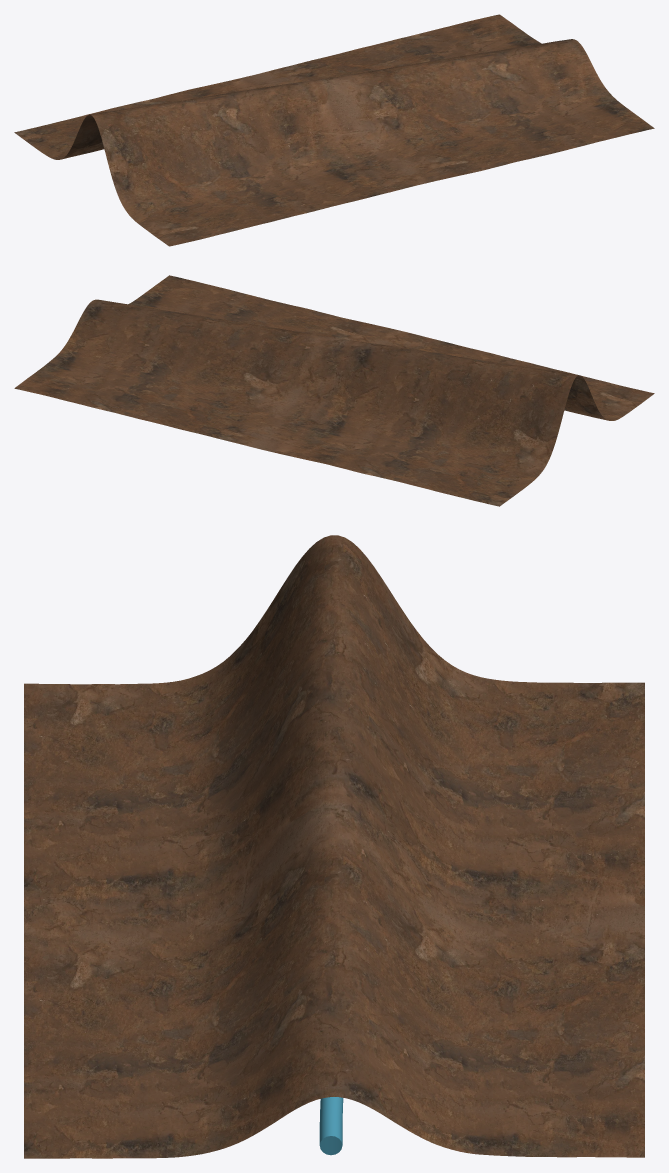
The model's file is river-erosion.glb.
3 views of the same model, one above another, from view 1: azimuth 30°, elevation 25°; view 2: azimuth 150°, elevation 25°; view 3: azimuth 270°, elevation 25° (orthographic). The views are drawn at different scales.
Visible parts, largest first — view 1: River_VValley; view 2: River_VValley; view 3: River_VValley, River_Channel.
Boxes of the visible parts, x1,y1,x2,y2 form: River_VValley: [14, 14, 654, 246]; River_VValley: [14, 275, 654, 506]; River_VValley: [24, 535, 644, 1158]; River_Channel: [319, 1097, 343, 1155].
Bounding box in the file's own units: 6.5 × 1.07 × 3.6.
Materials: 2 (1 with a texture image).
